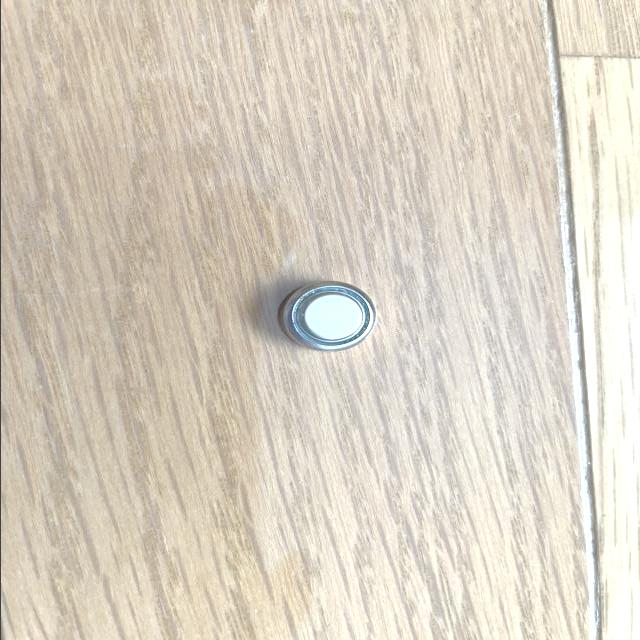COIN: (275, 280, 378, 352)
